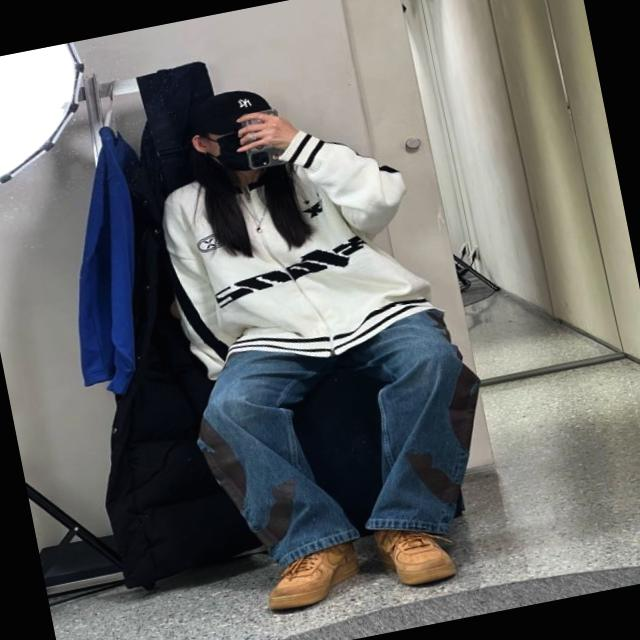cardigan: (138, 112, 442, 386)
denimpants: (177, 299, 508, 585)
